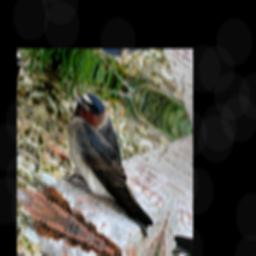Swallow: (47, 81, 179, 242)
